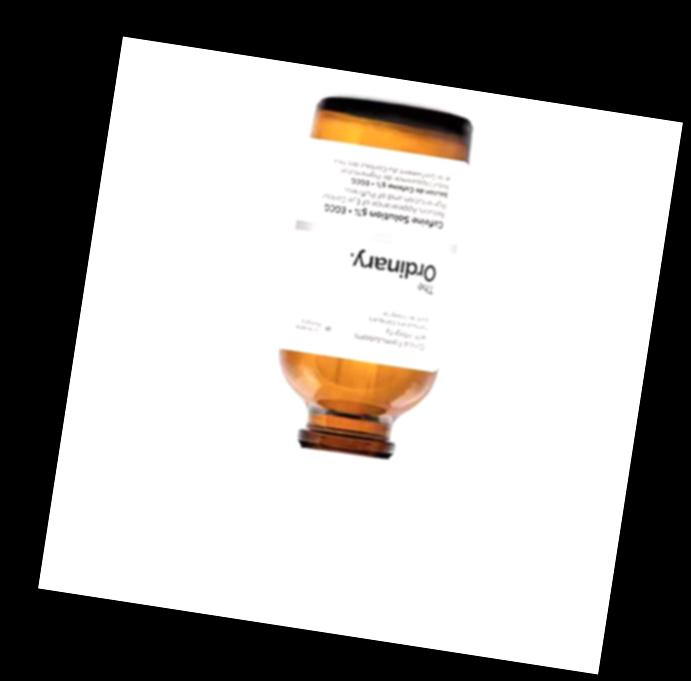cosmetic: (237, 94, 479, 619)
